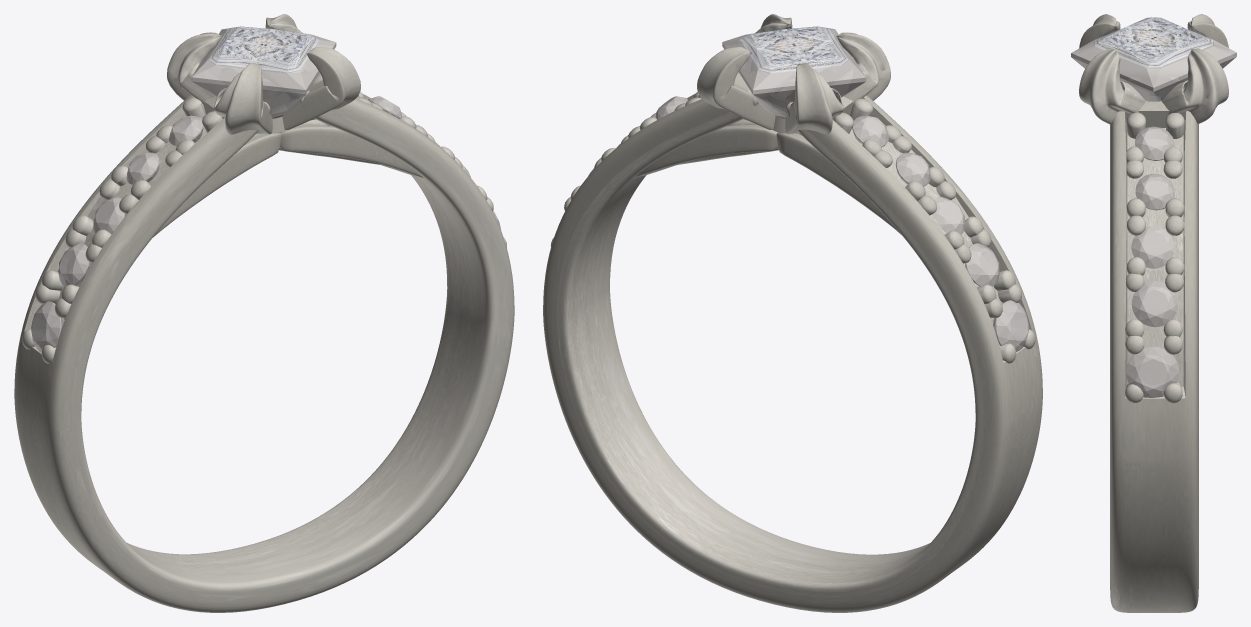
Rendered from numa_blanco.glb.
3 renders of one model, left to right at view 1: azimuth 30°, elevation 25°; view 2: azimuth 150°, elevation 25°; view 3: azimuth 270°, elevation 25°, orthographic.
Parts seen in each view (by area): view 1: Centro, BezierCurve.011, Princess.003, Grifa.001, BezierCurve.003, DIAMANT.002; view 2: Centro, BezierCurve.011, Princess.003, Grifa.001, DIAMANT.002, BezierCurve.003; view 3: Centro, BezierCurve.011, DIAMANT.002, Princess.003, Grifa.001.
Boxes of the visible parts, left/top/right/bottom form: Centro: left=14, top=61, right=514, bottom=612; BezierCurve.011: left=167, top=14, right=360, bottom=134; Princess.003: left=191, top=26, right=336, bottom=117; Grifa.001: left=22, top=92, right=506, bottom=363; BezierCurve.003: left=153, top=119, right=423, bottom=237; DIAMANT.002: left=31, top=95, right=500, bottom=352; Centro: left=543, top=62, right=1042, bottom=612; BezierCurve.011: left=697, top=14, right=890, bottom=134; Princess.003: left=722, top=26, right=865, bottom=117; Grifa.001: left=550, top=92, right=1035, bottom=363; DIAMANT.002: left=588, top=95, right=1029, bottom=351; BezierCurve.003: left=634, top=119, right=901, bottom=234; Centro: left=1110, top=56, right=1198, bottom=612; BezierCurve.011: left=1079, top=14, right=1228, bottom=124; DIAMANT.002: left=1126, top=126, right=1178, bottom=397; Princess.003: left=1071, top=17, right=1236, bottom=101; Grifa.001: left=1125, top=112, right=1184, bottom=403.
Bounding box in the file's own units: 20.24 × 22.93 × 6.28.
2 materials, 2 textured.
